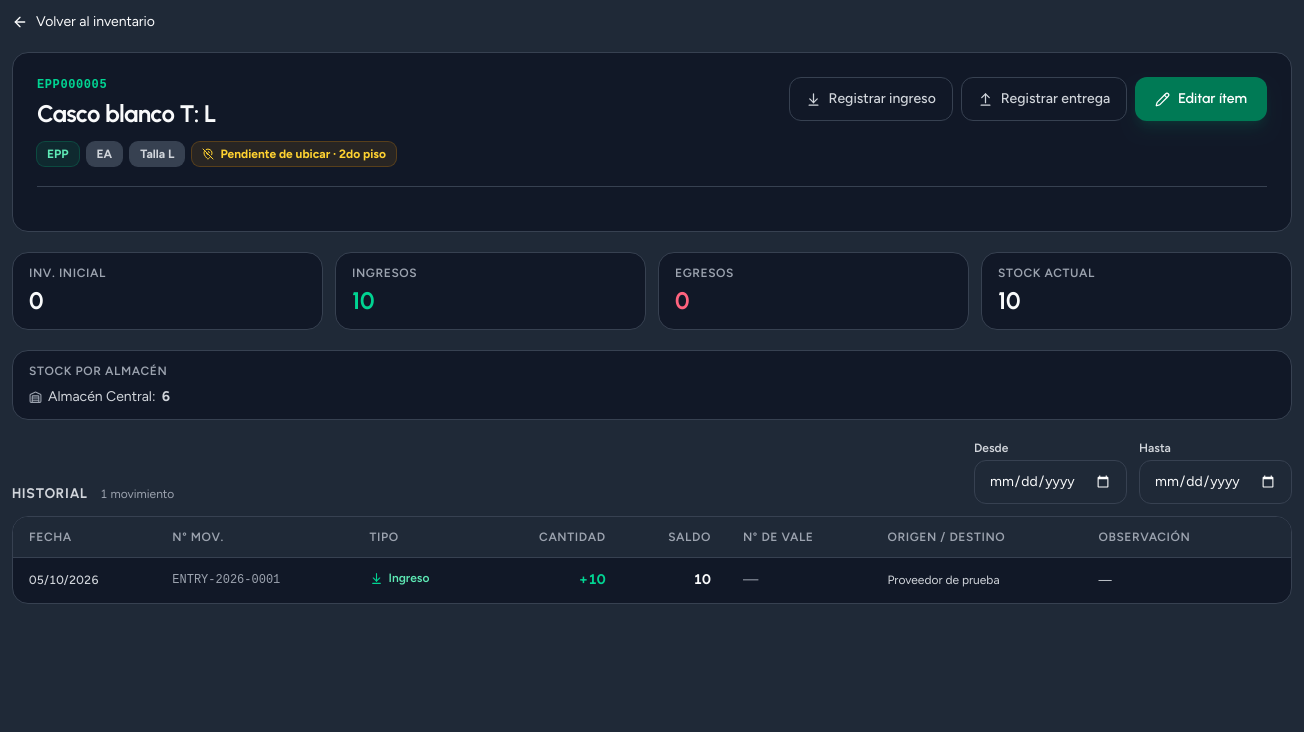
Test: KardexPage — periodo y edición › «Limpiar fechas» solo aparece con un periodo y vuelve a pedir el historial completo
The width and height of the screenshot is (1304, 732).
Expected: the table is shown, [13,517,1291,602]
Expected: the button "limpiar fechas" is not shown
Type "2026-10-01" into the date field labelled "Desde" at (1050,482), box [974,460,1127,504]
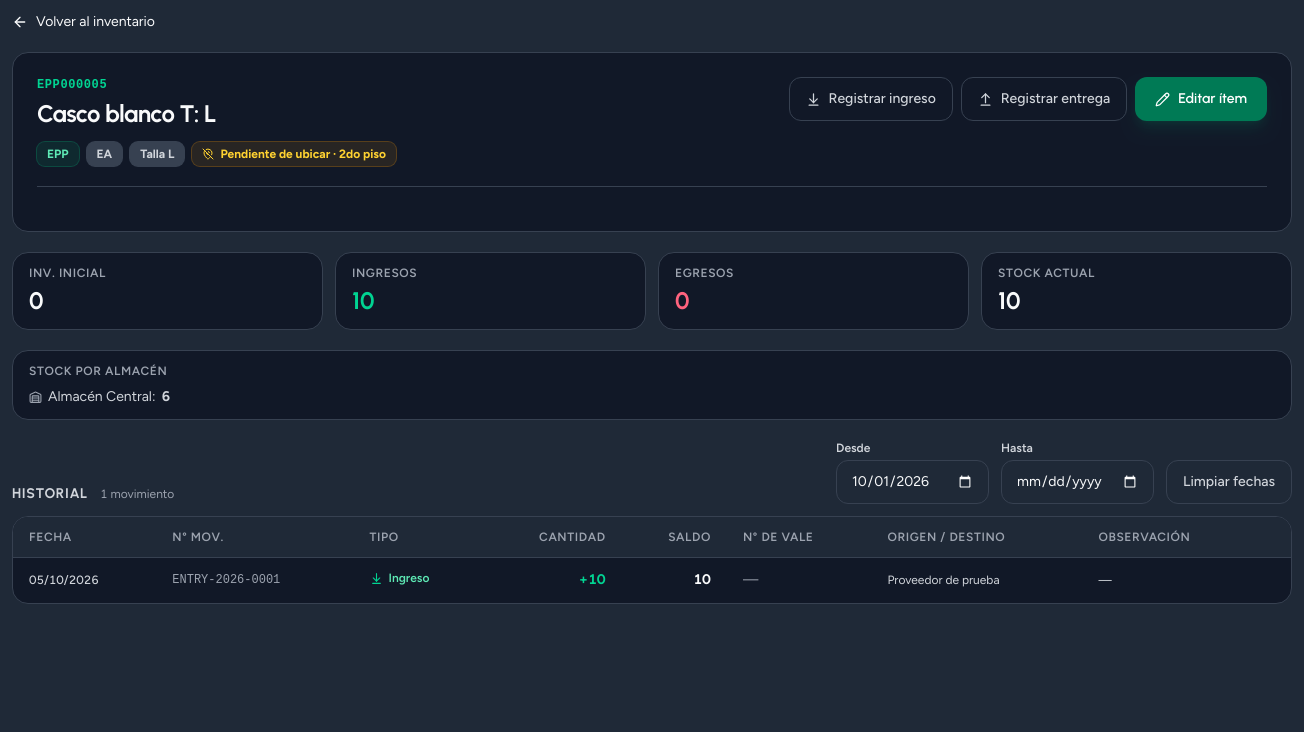
Click the button "Limpiar fechas" at (1229,482), box [1166,460,1292,504]
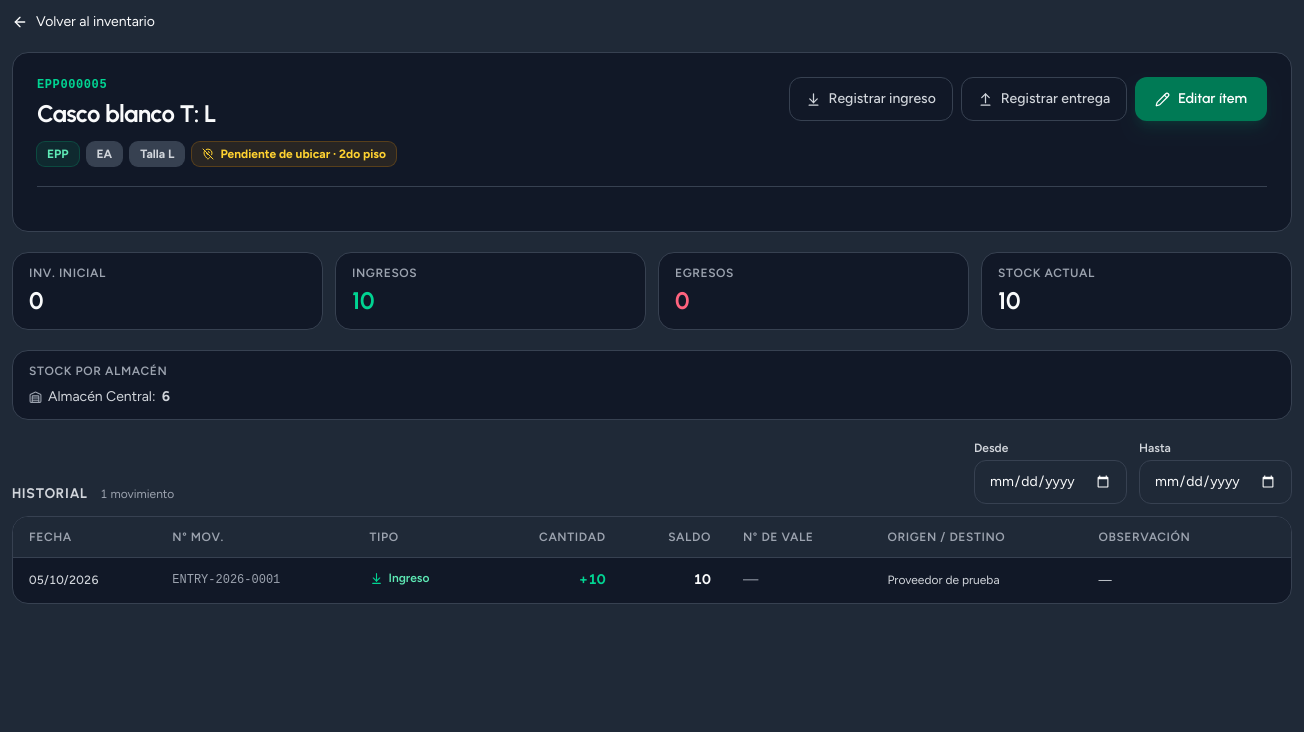
Expected: the date field labelled "Desde" is empty, [974,460,1127,504]
Expected: the button "Limpiar fechas" is gone
